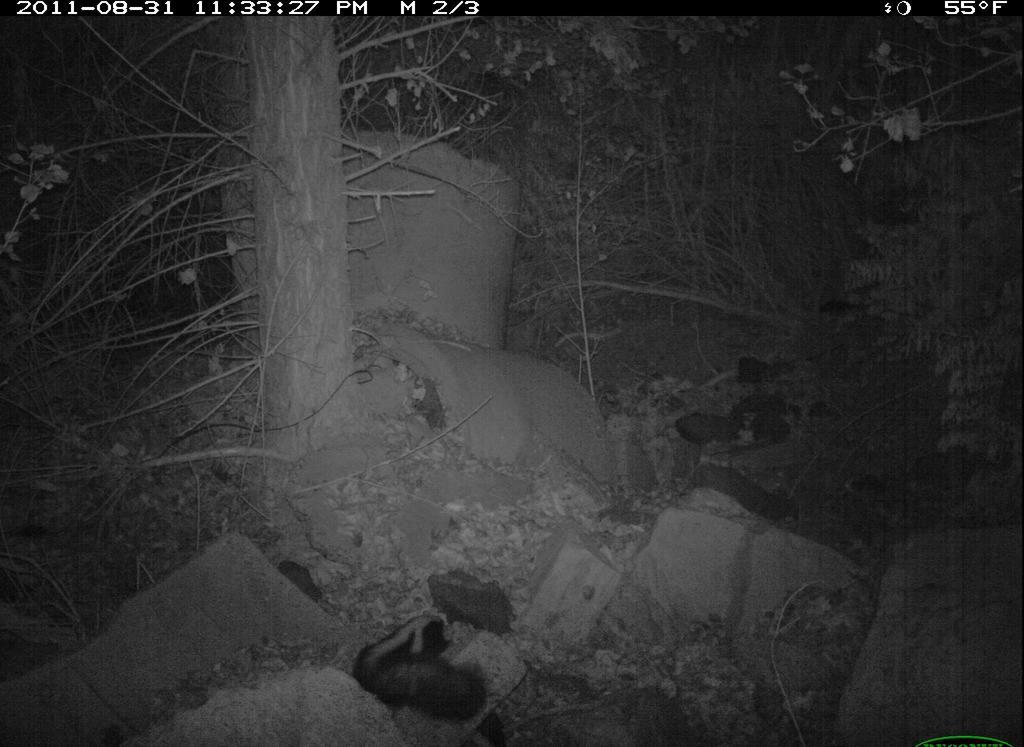skunk: (350, 610, 498, 731)
